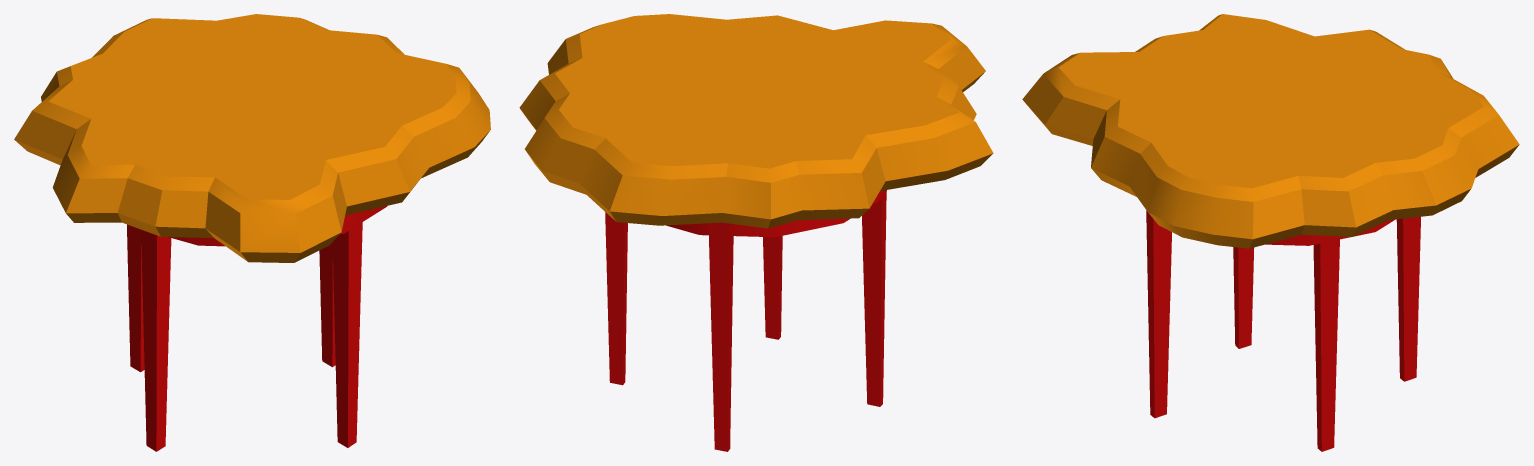
The model's file is LR_CoffeeTable_2.fbx.
3 renders of one model, left to right at view 1: azimuth 30°, elevation 25°; view 2: azimuth 150°, elevation 25°; view 3: azimuth 270°, elevation 25°, orthographic. The views are drawn at different scales.
Parts seen in each view (by area): view 1: LR_CoffeeTable_2; view 2: LR_CoffeeTable_2; view 3: LR_CoffeeTable_2.
Boxes of the visible parts, bbox=[...] form: LR_CoffeeTable_2: bbox=[14, 14, 490, 451]; LR_CoffeeTable_2: bbox=[519, 14, 993, 451]; LR_CoffeeTable_2: bbox=[1022, 14, 1519, 451].
Bounding box in the file's own units: 127 × 86.74 × 131.
